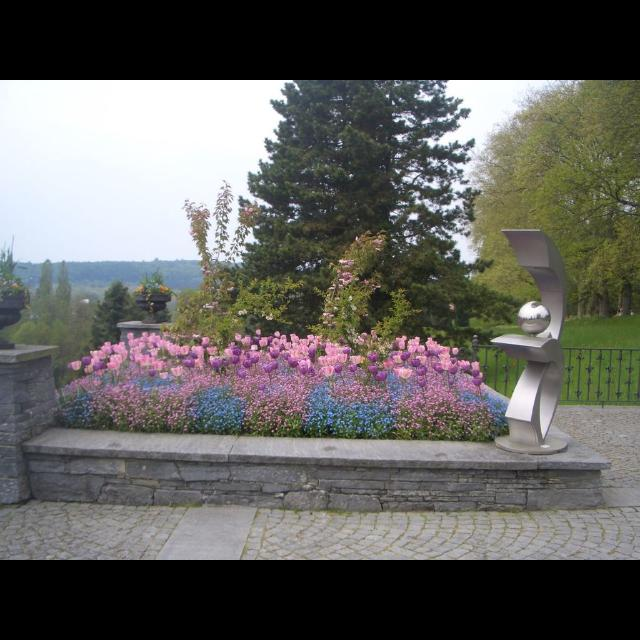Flower: (64, 329, 524, 436), (320, 258, 380, 324), (0, 276, 38, 298), (138, 281, 170, 293), (370, 233, 384, 244), (200, 264, 210, 278), (396, 368, 410, 377), (202, 302, 222, 308), (237, 308, 250, 316), (244, 204, 252, 216), (188, 228, 194, 236), (268, 311, 274, 319)
